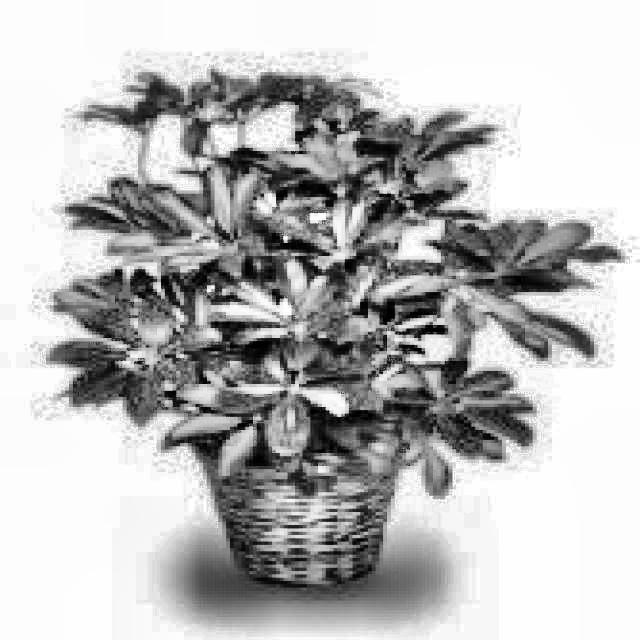plants: (56, 62, 584, 578)
